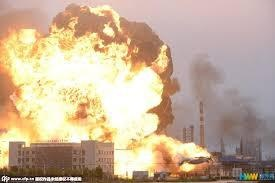fire: (2, 7, 184, 150)
